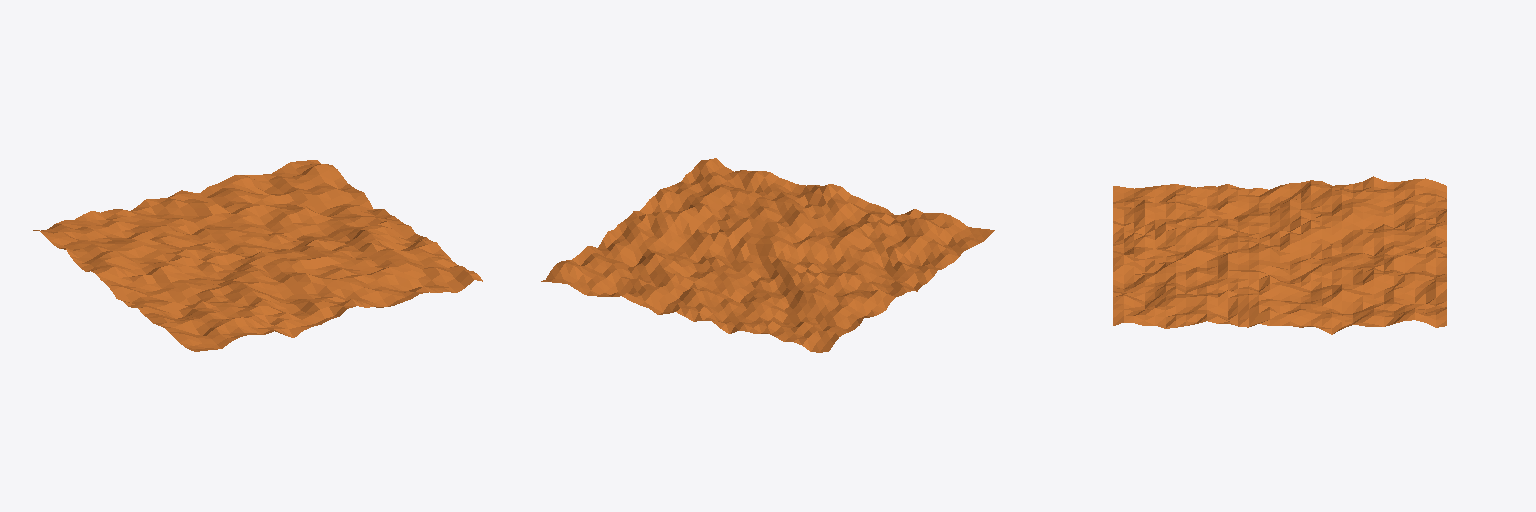
Rendered from desert.obj.
3 renders of one model, left to right at view 1: azimuth 30°, elevation 25°; view 2: azimuth 150°, elevation 25°; view 3: azimuth 270°, elevation 25°, orthographic.
Parts seen in each view (by area): view 1: Plane; view 2: Plane; view 3: Plane.
Part boxes in pixels (left/top/right/bottom): Plane: left=33, top=160, right=482, bottom=351; Plane: left=541, top=158, right=994, bottom=352; Plane: left=1113, top=176, right=1446, bottom=334.
Size of the model in its own units: 2 by 0.141 by 2.